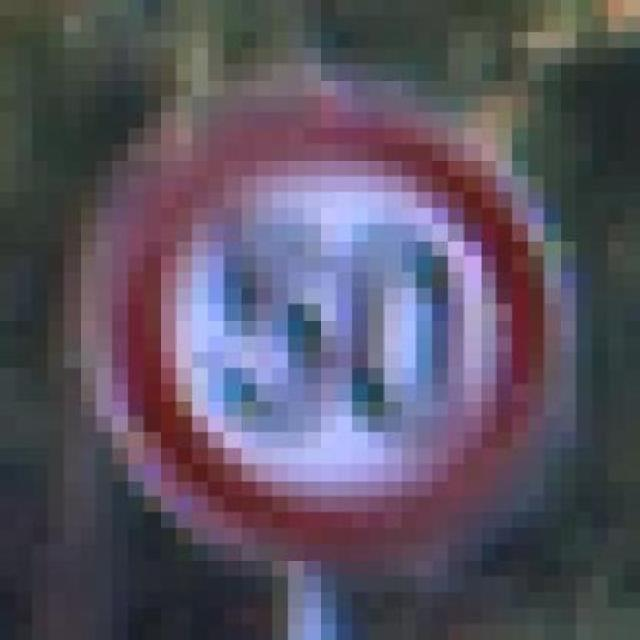forb_speed_over_50: (124, 117, 542, 549)
